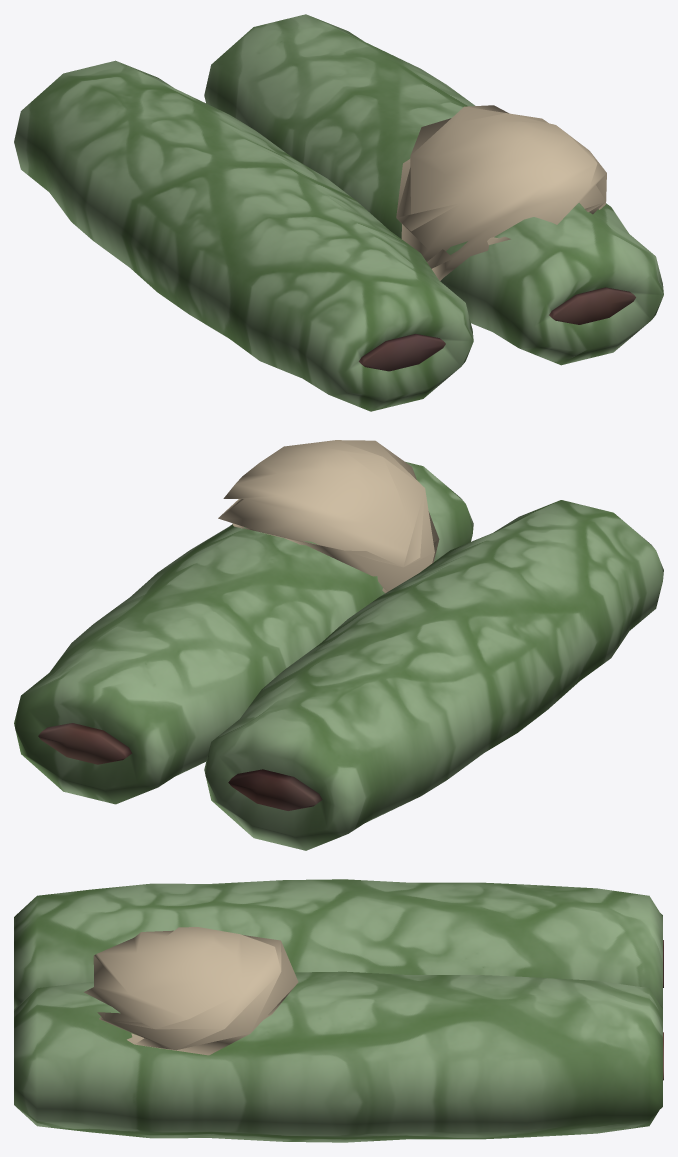
File: repollo1.glb
3 renders of one model, top to bottom at view 1: azimuth 30°, elevation 25°; view 2: azimuth 150°, elevation 25°; view 3: azimuth 270°, elevation 25°, orthographic.
Visible parts, largest first — view 1: polySurface28; view 2: polySurface28; view 3: polySurface28.
Boxes of the visible parts, bbox=[...] form: polySurface28: bbox=[14, 14, 663, 411]; polySurface28: bbox=[14, 440, 663, 850]; polySurface28: bbox=[14, 879, 663, 1142].
Size of the model in its own units: 0.8177 by 0.3876 by 1.23.
2 materials, 2 textured.
